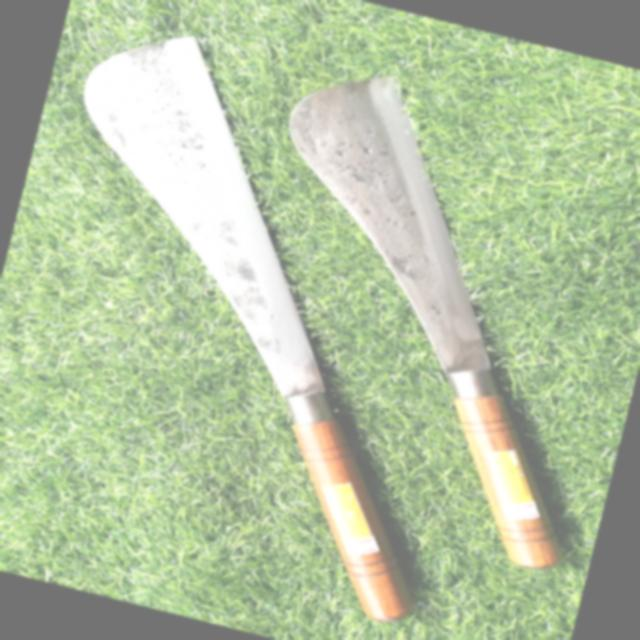eto: (54, 21, 430, 640), (266, 59, 565, 582)
